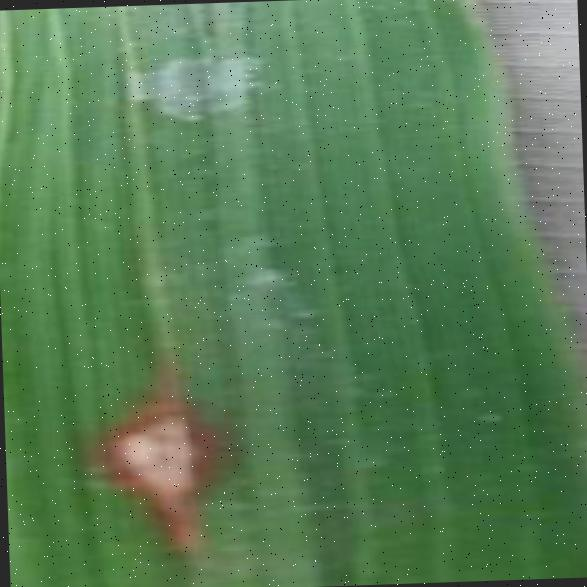Leaf_smut: (70, 342, 259, 544)
